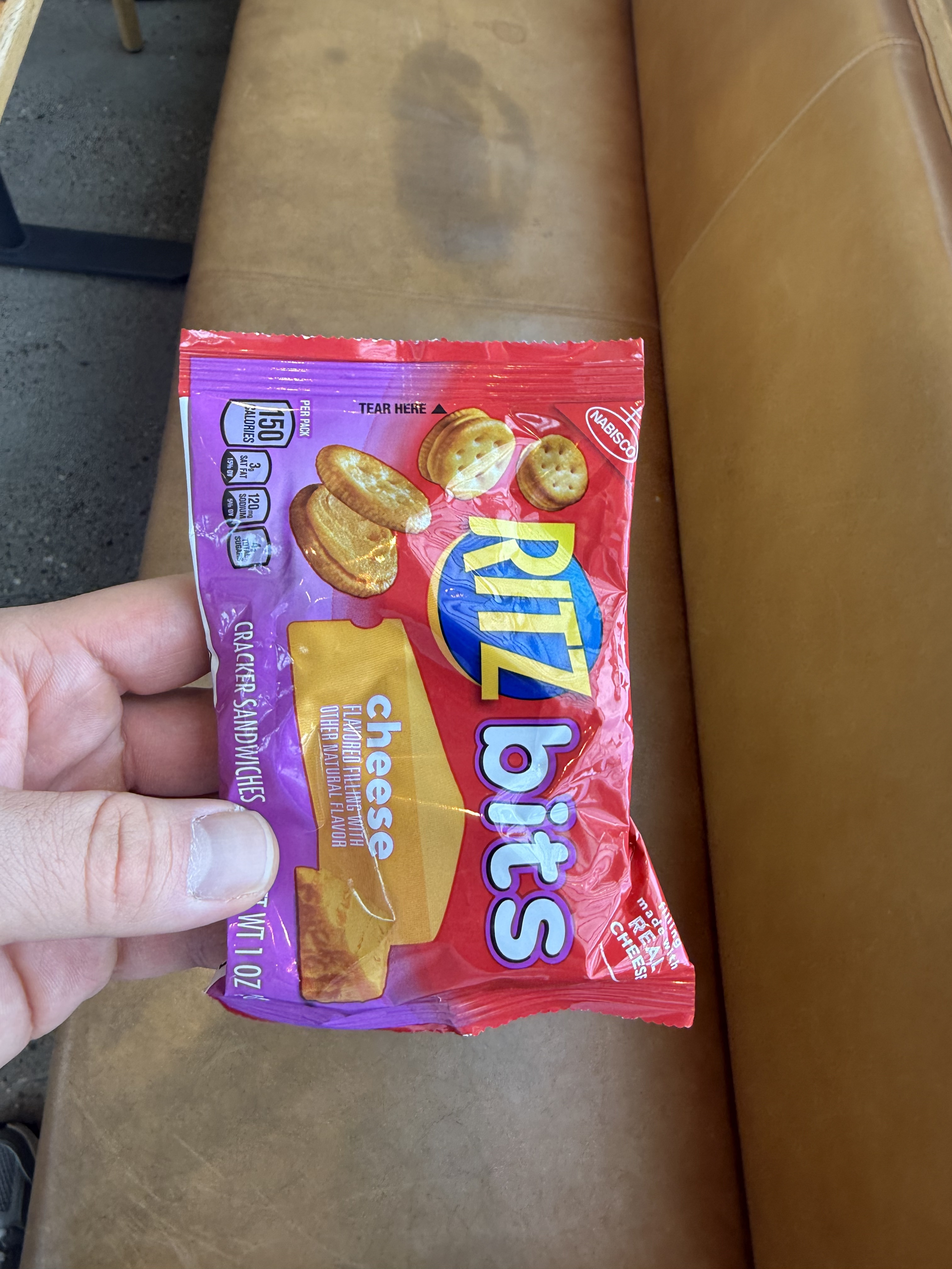ritz_cheese: (172, 334, 689, 1018)
